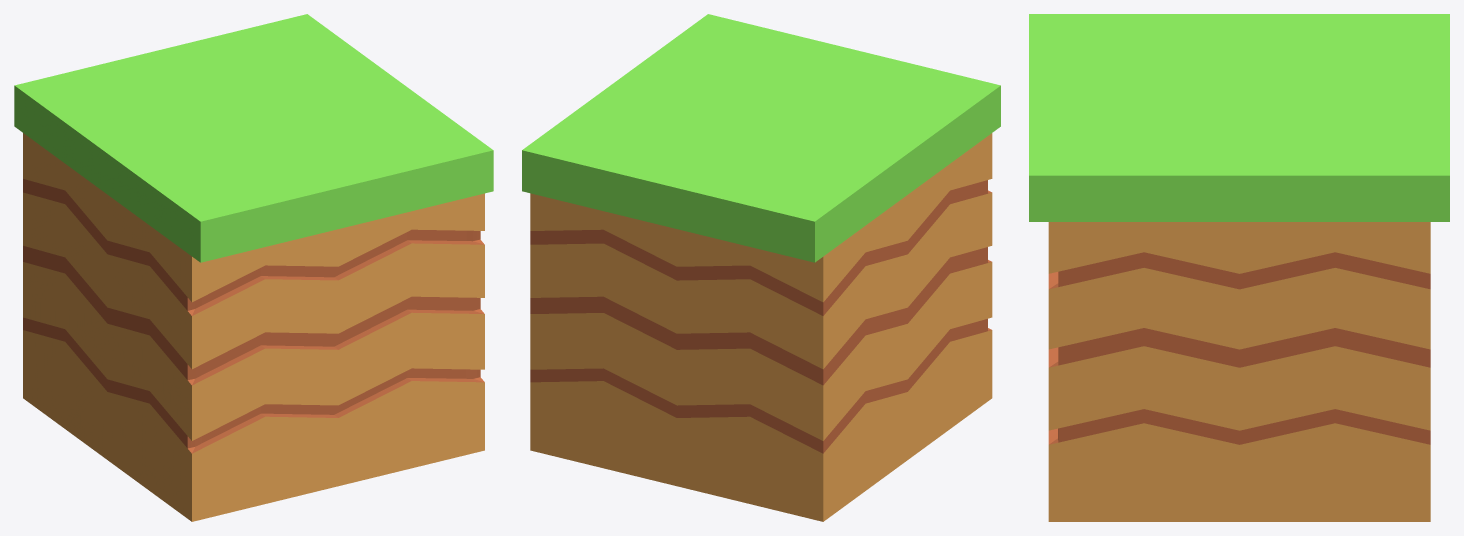
Rendered from GrassTile6.fbx.
3 renders of one model, left to right at view 1: azimuth 30°, elevation 25°; view 2: azimuth 150°, elevation 25°; view 3: azimuth 270°, elevation 25°, orthographic. The views are drawn at different scales.
Visible parts, largest first — view 1: Tile; view 2: Tile; view 3: Tile.
Boxes of the visible parts, left/top/right/bottom form: Tile: left=14, top=14, right=493, bottom=521; Tile: left=522, top=14, right=1000, bottom=521; Tile: left=1029, top=14, right=1449, bottom=521.
Bounding box in the file's own units: 100 × 110 × 100.
